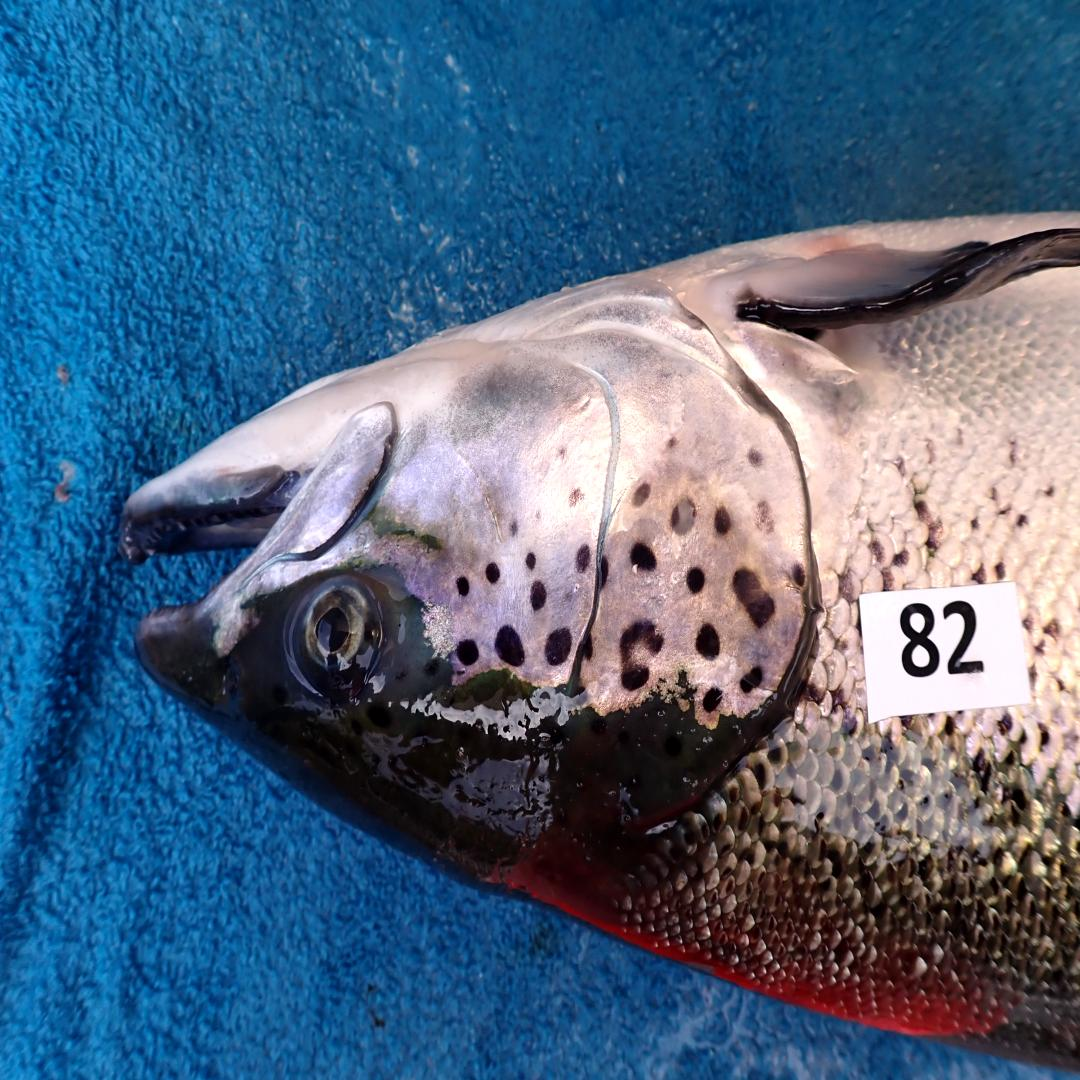roi: (395, 273, 811, 721)
